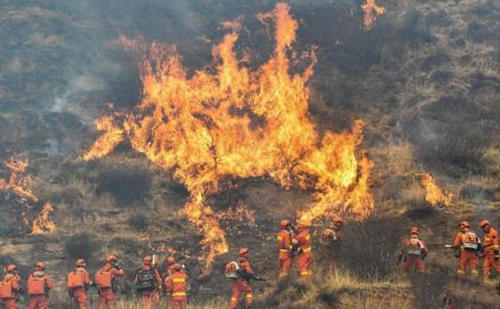fire: (87, 4, 370, 223), (418, 173, 444, 205), (32, 205, 54, 233), (359, 2, 383, 24)
